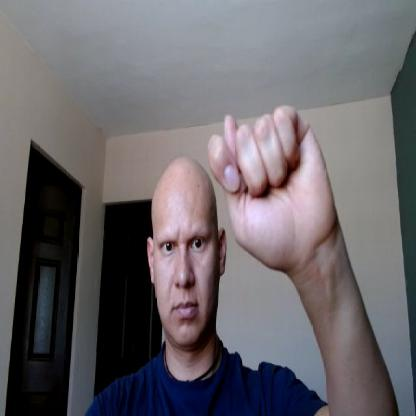T: (205, 101, 335, 270)
